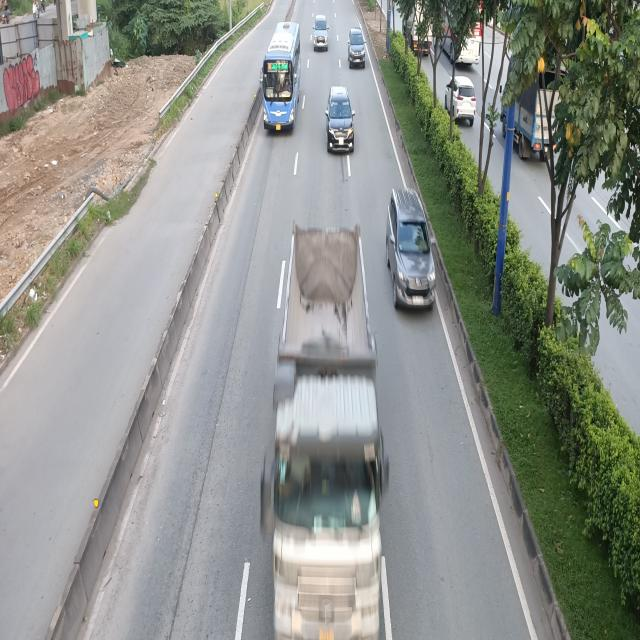car: (388, 186, 438, 310), (327, 88, 356, 155), (348, 30, 367, 69), (313, 15, 329, 50)
coach: (261, 20, 303, 130)
container: (256, 225, 390, 640)
